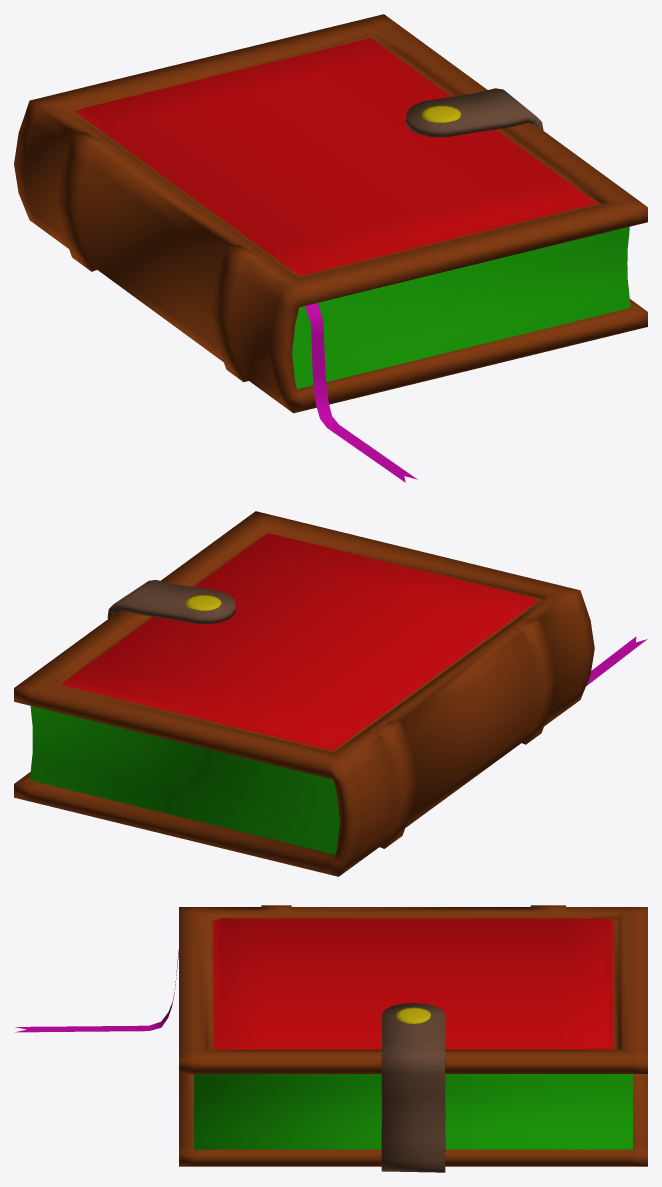
The model's file is Book_low.fbx.
The picture shows the model from 3 angles, top to bottom: view 1: azimuth 30°, elevation 25°; view 2: azimuth 150°, elevation 25°; view 3: azimuth 270°, elevation 25°; orthographic projection. The views are drawn at different scales.
Visible parts, largest first — view 1: Book_low; view 2: Book_low; view 3: Book_low.
Boxes of the visible parts, left/top/right/bottom form: Book_low: left=14, top=14, right=647, bottom=482; Book_low: left=14, top=511, right=647, bottom=876; Book_low: left=15, top=905, right=647, bottom=1172.
Bounding box in the file's own units: 338 × 123 × 541.
